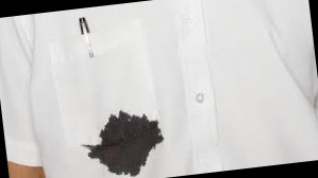ink: (83, 110, 164, 178)
